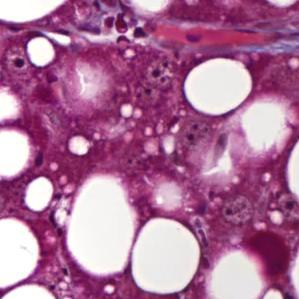steatosis: (131, 218, 202, 295), (184, 58, 255, 115)
